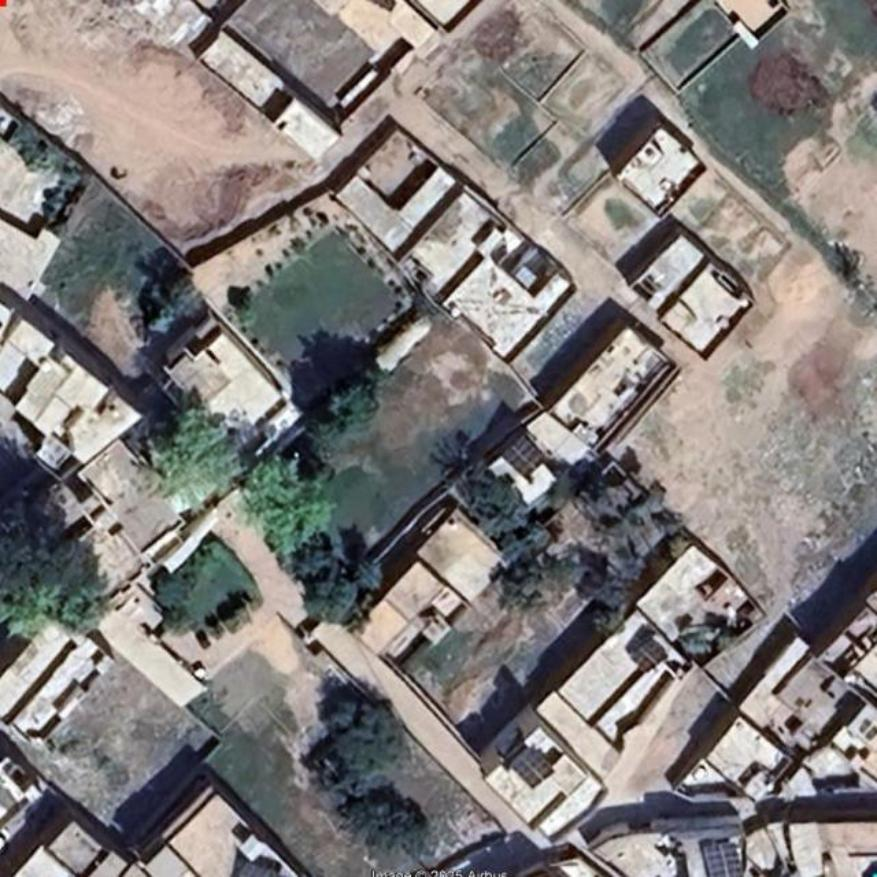Solarpanel: (502, 433, 548, 477), (510, 747, 554, 787), (700, 845, 744, 876), (240, 863, 284, 875)
